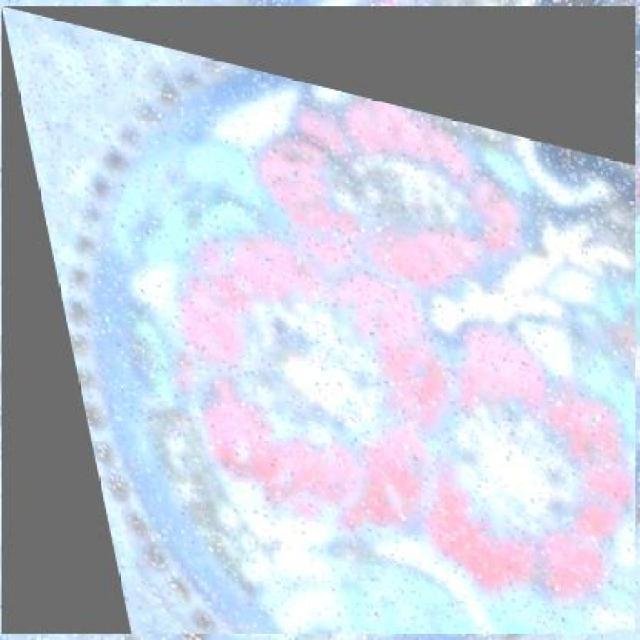Manhole: (2, 6, 636, 634)
